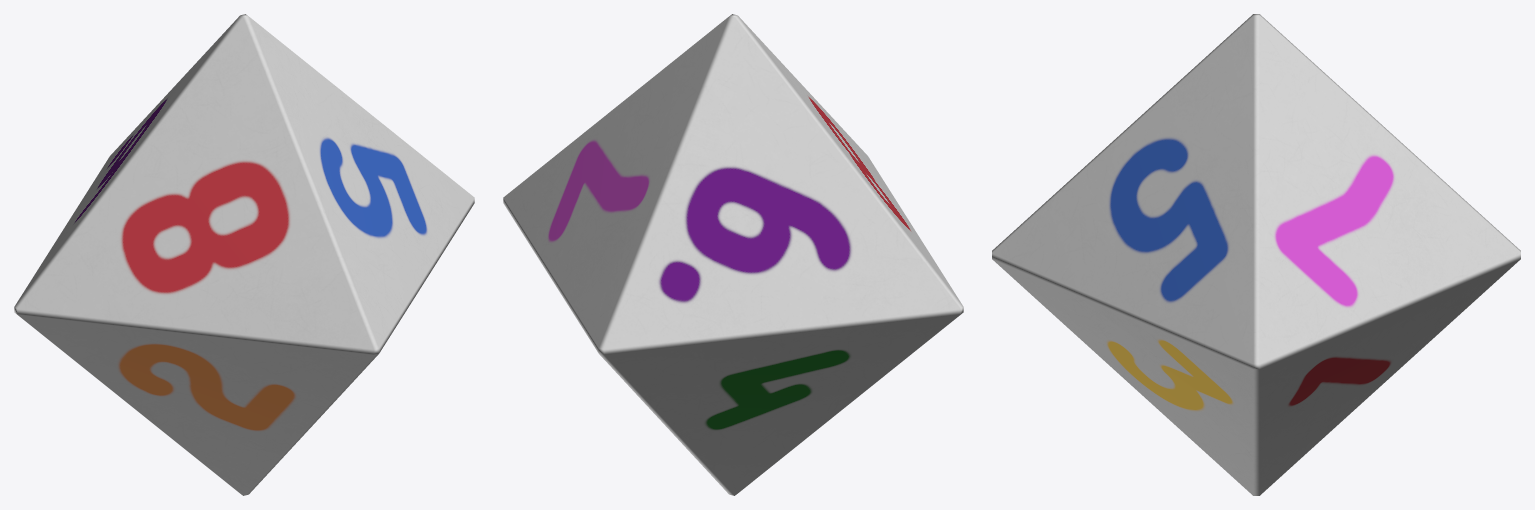
Rendered from d8_rainbow.glb.
The picture shows the model from 3 angles, left to right: view 1: azimuth 30°, elevation 25°; view 2: azimuth 150°, elevation 25°; view 3: azimuth 270°, elevation 25°; orthographic projection.
Parts seen in each view (by area): view 1: Mesh_0; view 2: Mesh_0; view 3: Mesh_0.
Boxes of the visible parts, x1=… form: Mesh_0: x1=14, y1=14, x2=474, y2=495; Mesh_0: x1=503, y1=14, x2=963, y2=495; Mesh_0: x1=992, y1=14, x2=1520, y2=495.
Bounding box in the file's own units: 196 × 196 × 196.
Materials: 1 (1 with a texture image).
